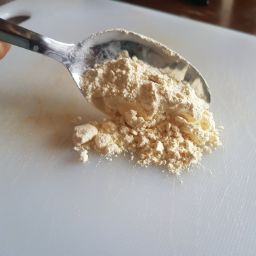Gram/ Flour: (57, 19, 229, 177), (77, 44, 228, 179)
